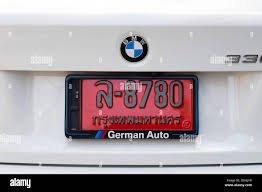Liscence Plate: (63, 78, 197, 140)
